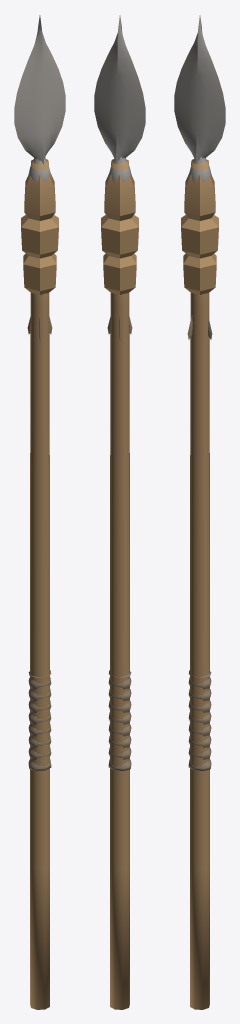
File: totem-spear.glb
3 views of the same model, side by side, from view 1: azimuth 30°, elevation 25°; view 2: azimuth 150°, elevation 25°; view 3: azimuth 330°, elevation 25° (orthographic).
Parts seen in each view (by area): view 1: totem-spear; view 2: totem-spear; view 3: totem-spear.
Part boxes in pixels (bbox=[...]): totem-spear: bbox=[14, 15, 65, 1009]; totem-spear: bbox=[94, 15, 145, 1009]; totem-spear: bbox=[174, 15, 225, 1009].
Size of the model in its own units: 0.2302 by 4.23 by 0.1472.
